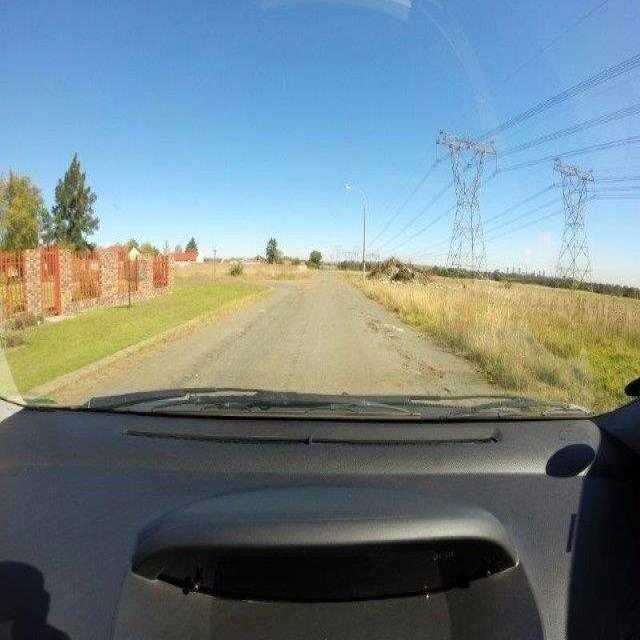lubang: (403, 360, 447, 384), (361, 312, 388, 336), (442, 382, 454, 396)
